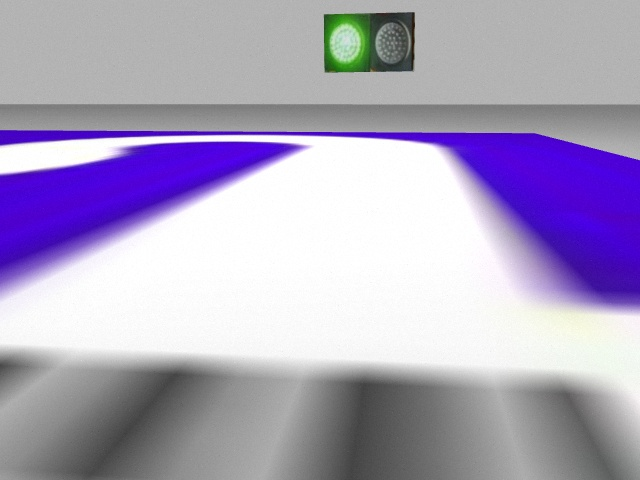green: (324, 14, 370, 71)
